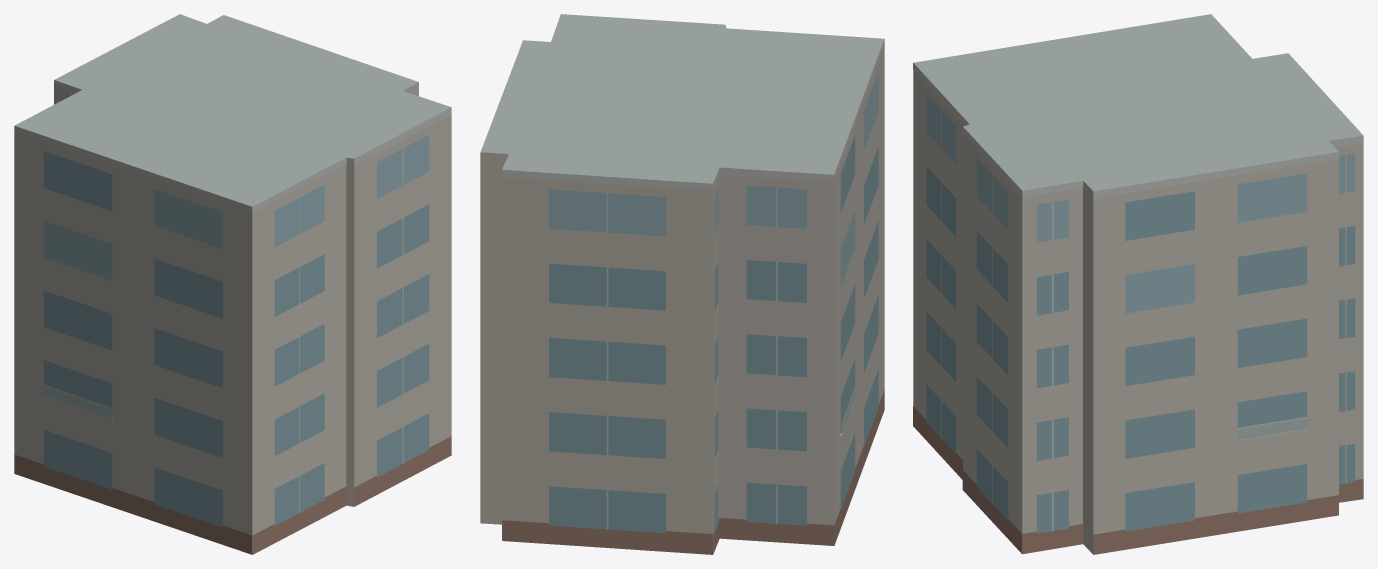
File: survey-upis-32836202.glb
The picture shows the model from 3 angles, left to right: view 1: azimuth 30°, elevation 25°; view 2: azimuth 150°, elevation 25°; view 3: azimuth 270°, elevation 25°; orthographic projection. The views are drawn at different scales.
Visible parts, largest first — view 1: survey-upis-32836202.tmp; view 2: survey-upis-32836202.tmp; view 3: survey-upis-32836202.tmp.
Part boxes in pixels (bbox=[...]): survey-upis-32836202.tmp: bbox=[14, 14, 451, 554]; survey-upis-32836202.tmp: bbox=[480, 14, 884, 554]; survey-upis-32836202.tmp: bbox=[913, 14, 1363, 554].
Size of the model in its own units: 13.26 by 12.65 by 14.22.
